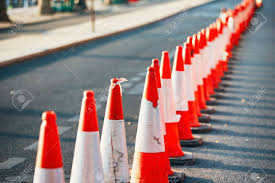cones: (159, 52, 194, 168), (136, 67, 167, 183), (70, 92, 107, 183), (102, 76, 132, 183), (175, 48, 203, 146), (30, 110, 65, 183)
